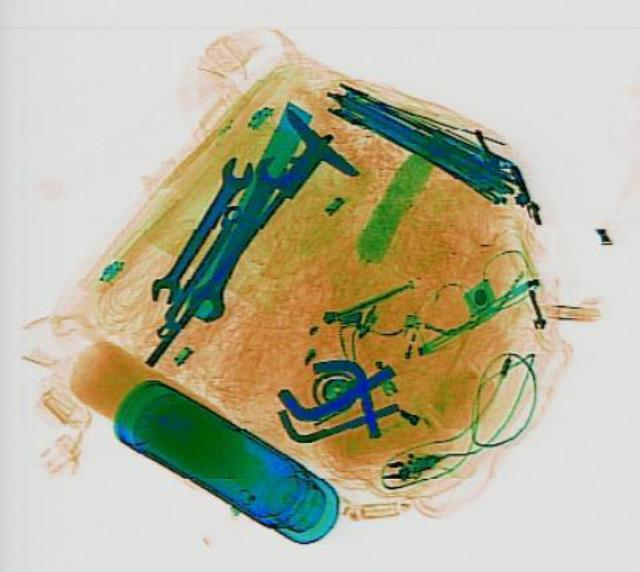Wrench: (177, 149, 296, 325), (140, 151, 260, 305)
